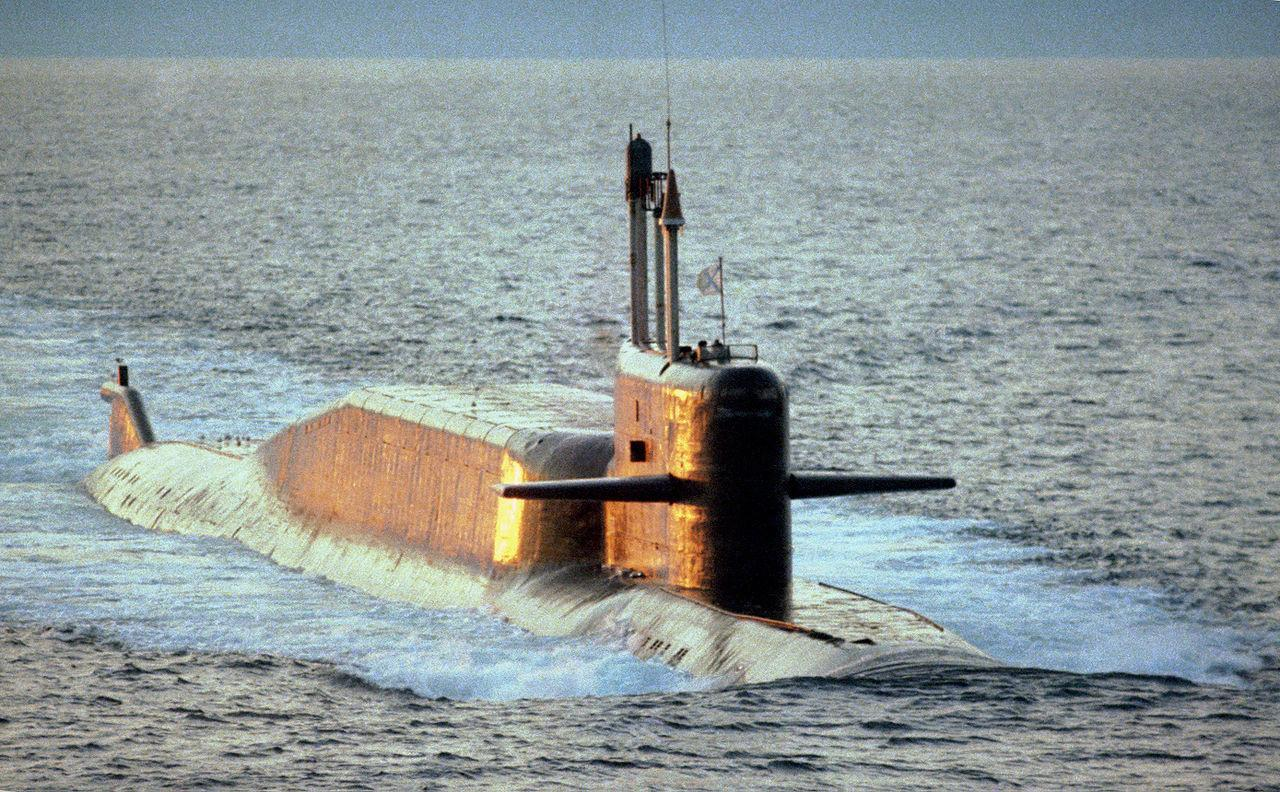Submarine: (10, 46, 1060, 686)
